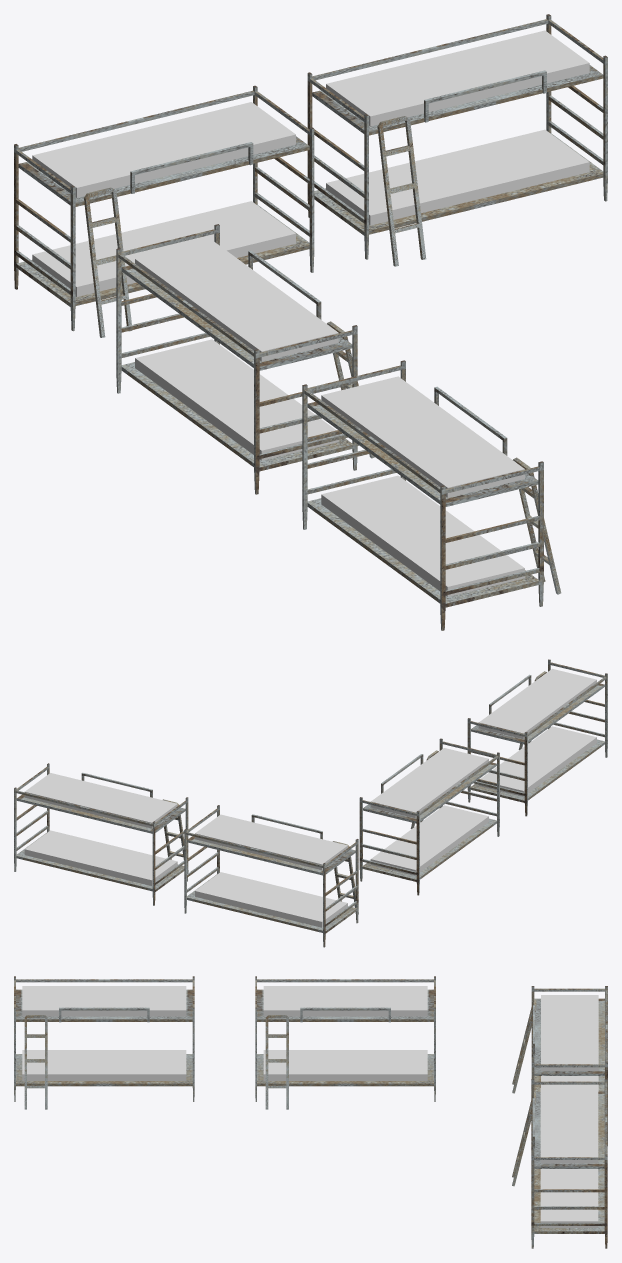
File: VillagersRoom.fbx
3 renders of one model, top to bottom at view 1: azimuth 30°, elevation 25°; view 2: azimuth 150°, elevation 25°; view 3: azimuth 270°, elevation 25°, orthographic. The views are drawn at different scales.
Parts seen in each view (by area): view 1: Plane.175, Plane.172, Plane.173, Plane.174, Cube.056, Cube.055, Cube.053; view 2: Plane.174, Plane.175, Plane.173, Plane.172; view 3: Plane.172, Plane.173, Plane.175, Plane.174, Cube.054, Cube.053, Cube.055, Cube.056.
Boxes of the visible parts, box(x1,y1,x2,y2) form: Plane.175: box(307, 14, 607, 259); Plane.172: box(302, 360, 543, 630); Plane.173: box(116, 224, 357, 494); Plane.174: box(14, 85, 314, 331); Cube.056: box(377, 116, 426, 266); Cube.055: box(84, 187, 132, 337); Cube.053: box(513, 457, 561, 594); Plane.174: box(184, 805, 358, 947); Plane.175: box(14, 763, 188, 905); Plane.173: box(359, 738, 499, 895); Plane.172: box(467, 659, 607, 816); Plane.172: box(14, 976, 194, 1101); Plane.173: box(255, 976, 435, 1101); Plane.175: box(531, 1079, 607, 1248); Plane.174: box(531, 986, 607, 1145); Cube.054: box(265, 1015, 288, 1109); Cube.053: box(24, 1015, 47, 1109); Cube.055: box(512, 999, 536, 1093); Cube.056: box(512, 1092, 535, 1186).
Bounding box in the file's own units: 797 × 194 × 1118.
